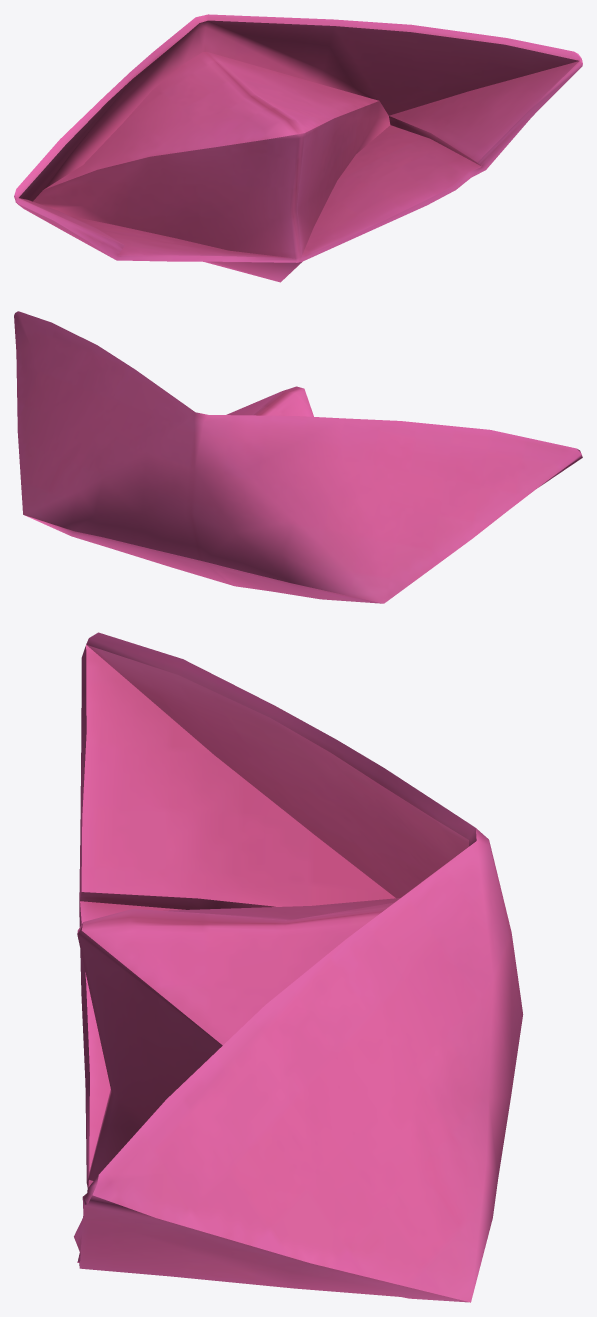
File: ref_gtpaperboat.glb
3 views of the same model, one above another, from view 1: azimuth 30°, elevation 25°; view 2: azimuth 150°, elevation 25°; view 3: azimuth 270°, elevation 25° (orthographic). The views are drawn at different scales.
Parts seen in each view (by area): view 1: ref_gtpaperboat_part0; view 2: ref_gtpaperboat_part0; view 3: ref_gtpaperboat_part0.
Part boxes in pixels (x1=…): ref_gtpaperboat_part0: x1=14, y1=14, x2=582, y2=282; ref_gtpaperboat_part0: x1=14, y1=311, x2=582, y2=603; ref_gtpaperboat_part0: x1=74, y1=632, x2=523, y2=1302.
Bounding box in the file's own units: 1 × 0.3511 × 0.3428.
1 material, 1 textured.
